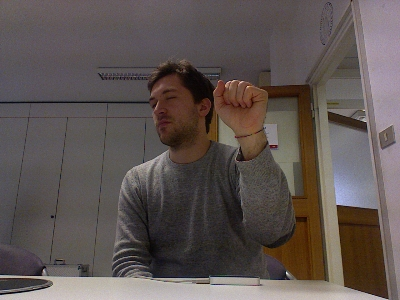石头: (211, 77, 269, 136)
